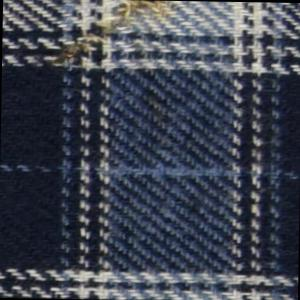Oil Stain: (33, 1, 179, 79)
